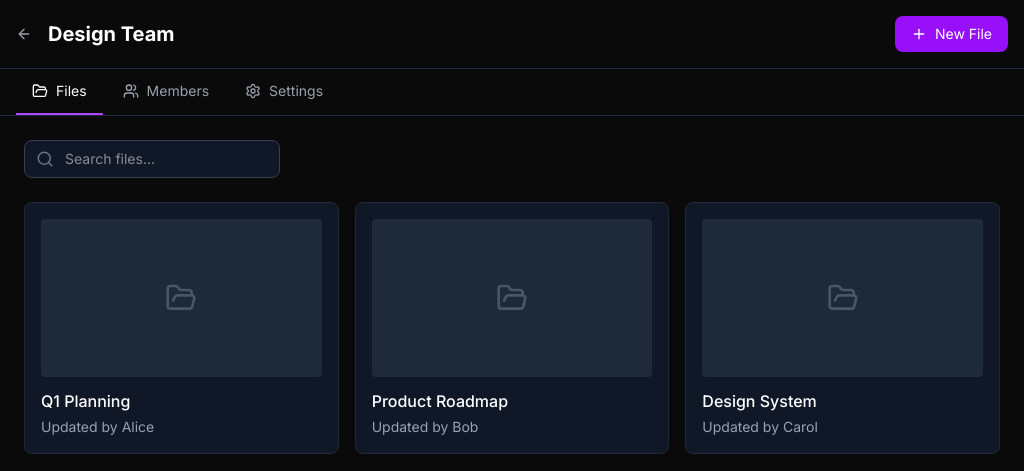
/teams/[teamSlug] — switching tabs › switches to the members panel and moves the active class
The image size is (1024, 471).
Click the button "Members": [166, 92] box [107, 69, 225, 115]
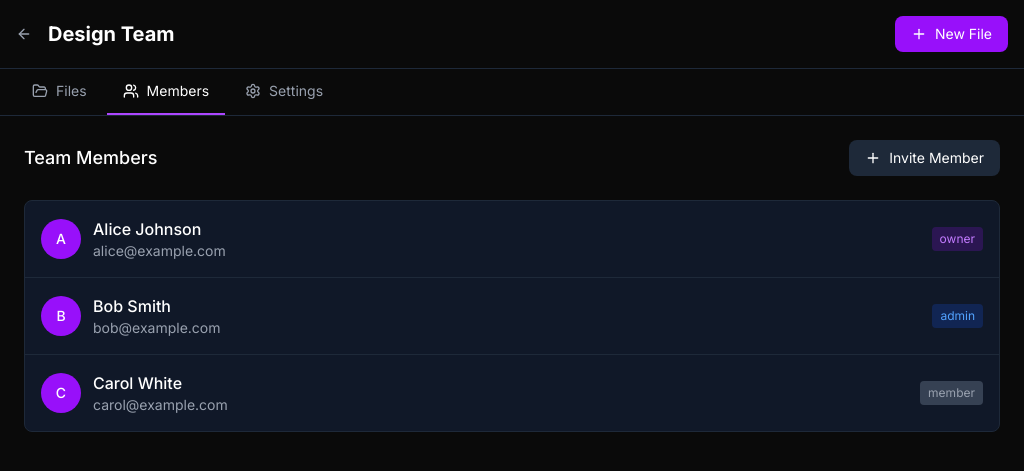
Expected: the heading "Team Members" is shown, [24, 144, 158, 172]
